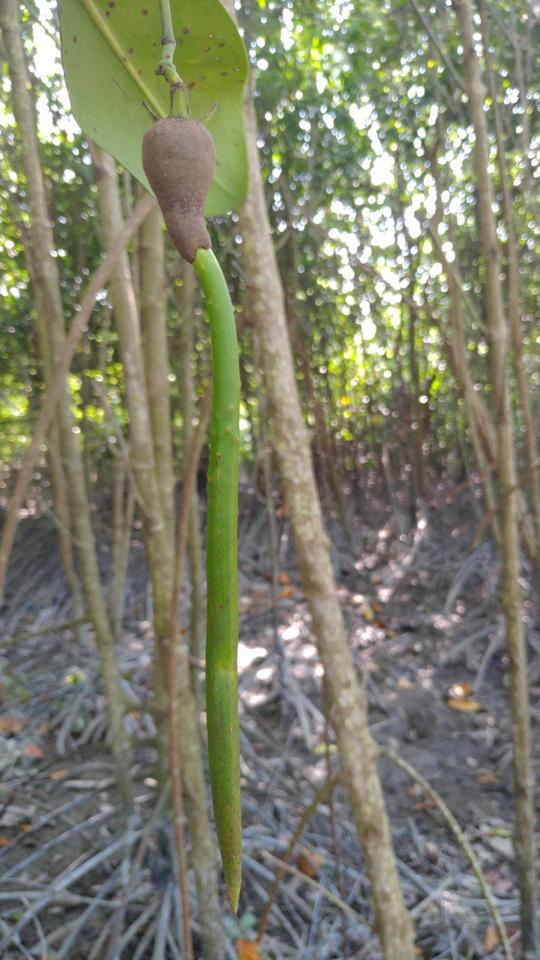mentah: (112, 88, 289, 929)
